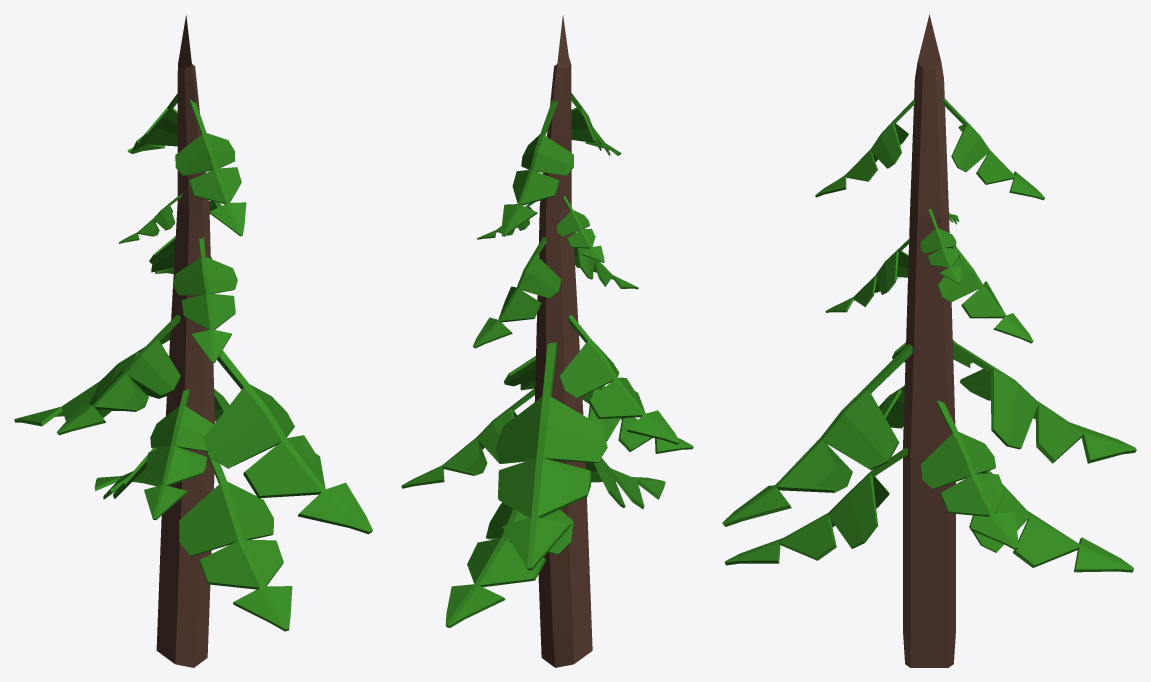
The model's file is treeModel.fbx.
The picture shows the model from 3 angles, left to right: view 1: azimuth 30°, elevation 25°; view 2: azimuth 150°, elevation 25°; view 3: azimuth 270°, elevation 25°; orthographic projection.
Visible parts, largest first — view 1: Stamm; view 2: Stamm; view 3: Stamm.
Part boxes in pixels (x1,y1,x2,y2): Stamm: (14,15,372,667); Stamm: (401,15,693,667); Stamm: (722,14,1136,667).
Size of the model in its own units: 374 by 951 by 548.
